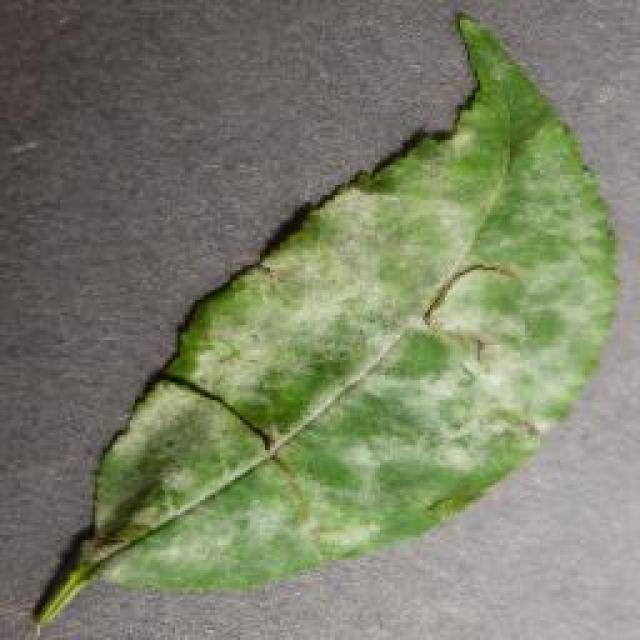Cherry___Powdery_mildew: (7, 8, 635, 638)
